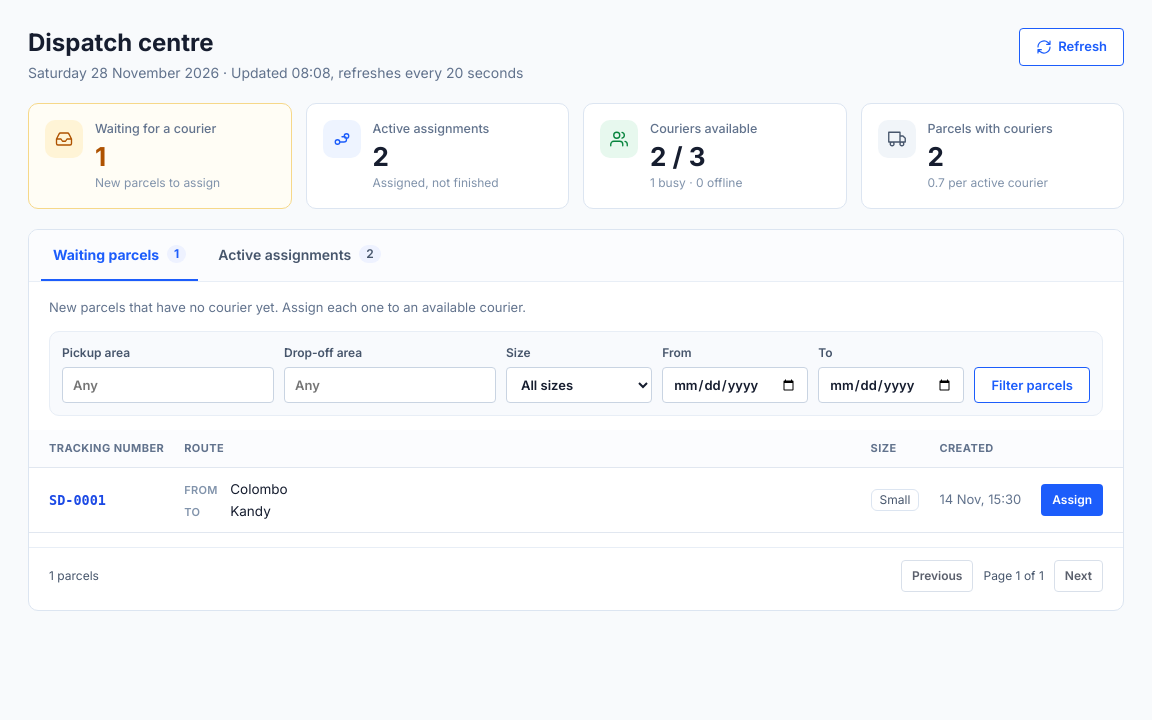
Test: DispatcherDashboardPage › assigns a waiting parcel to the chosen courier; unavailable couriers cannot be picked
Click the button with aria-label "Assign SD-0001".
click(1072, 500)  # box [1041,484,1103,516]
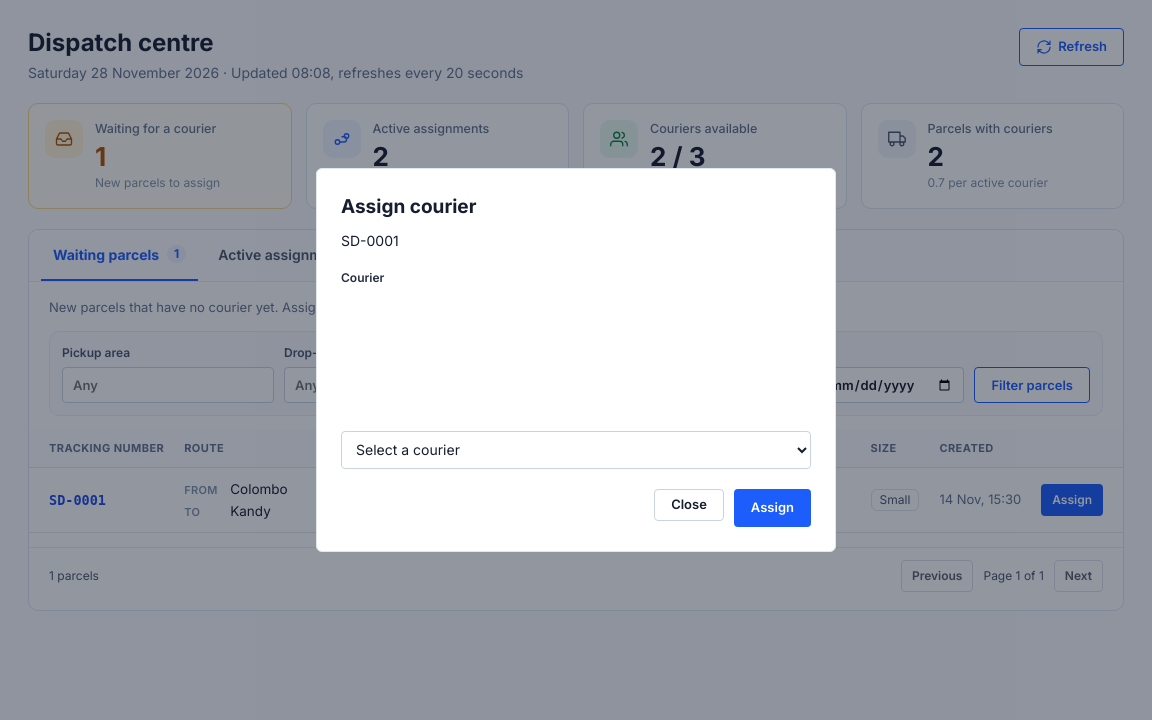
Select "Amal · 2 active · Available" in the dropdown labelled "Courier" at [576, 450], box [341,431,811,469]
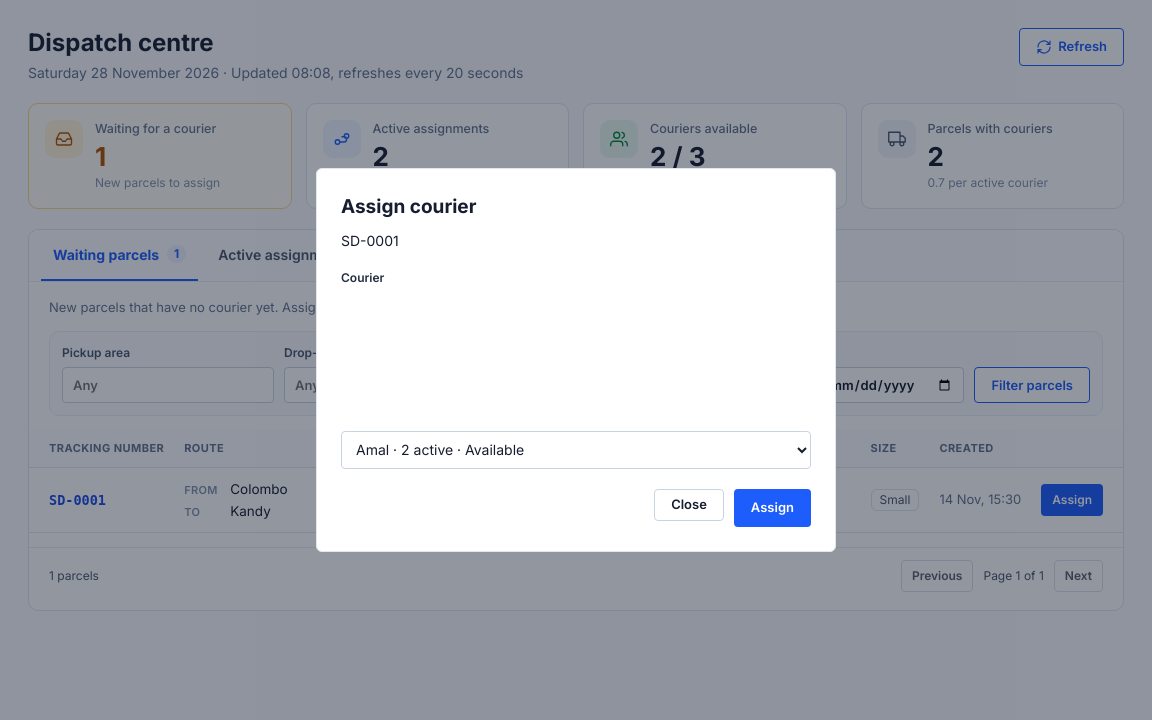
Click the button "Assign".
click(772, 508)  # box [734,489,811,527]
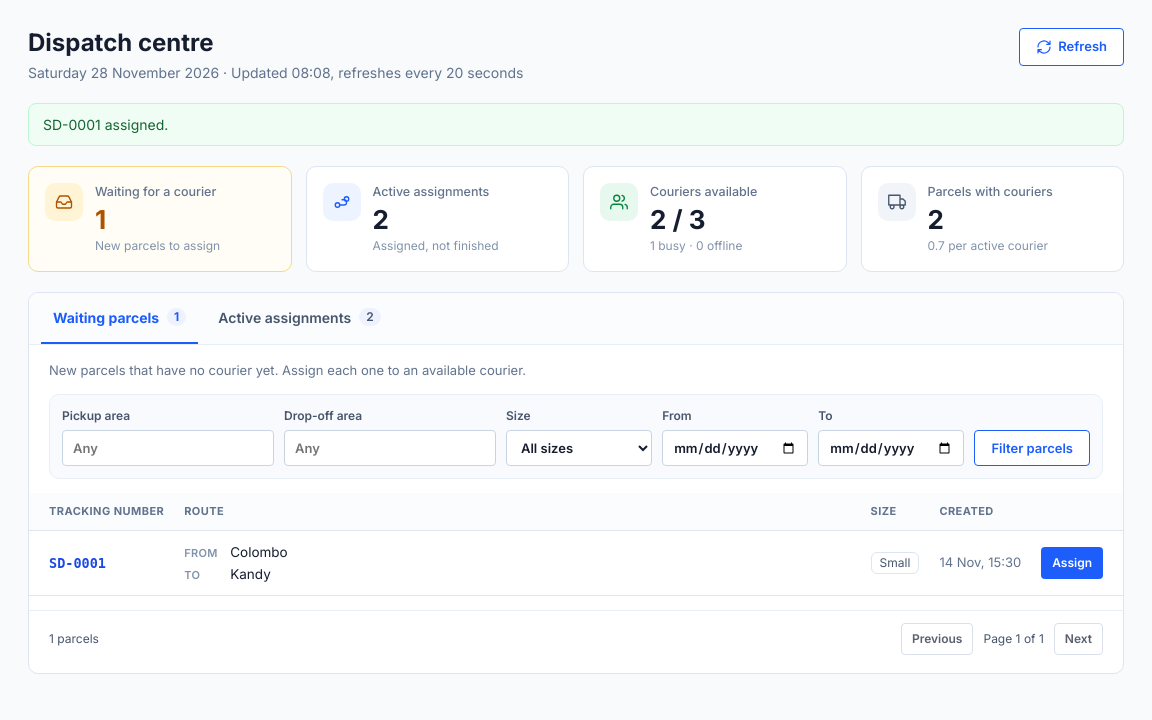
Expected: the message reads "SD-0001 assigned.", [43,116,168,133]
Expected: the dialog is gone
